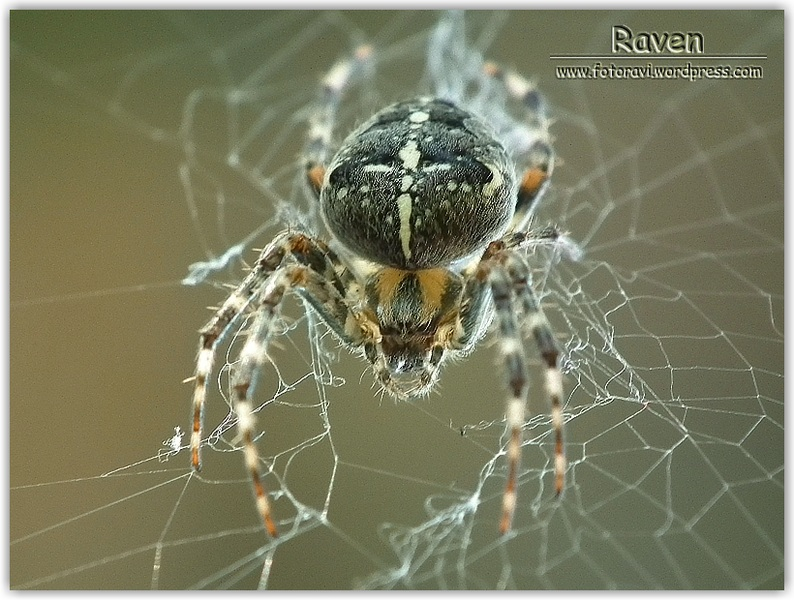spider: (145, 78, 624, 534)
